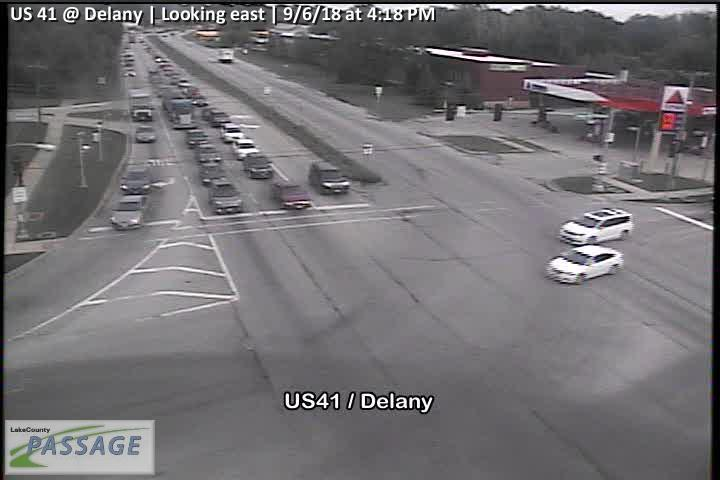SUV: (558, 206, 633, 246), (307, 157, 352, 196), (208, 178, 244, 213), (120, 167, 152, 193), (219, 122, 244, 143), (207, 109, 230, 125)
Sedan: (546, 242, 625, 284), (108, 194, 151, 231), (271, 179, 314, 209), (243, 155, 275, 180), (198, 143, 223, 166), (201, 163, 227, 183), (185, 128, 209, 148), (233, 141, 259, 159), (135, 125, 155, 143)
Truck: (161, 85, 197, 130), (127, 85, 156, 121), (217, 44, 234, 62)
